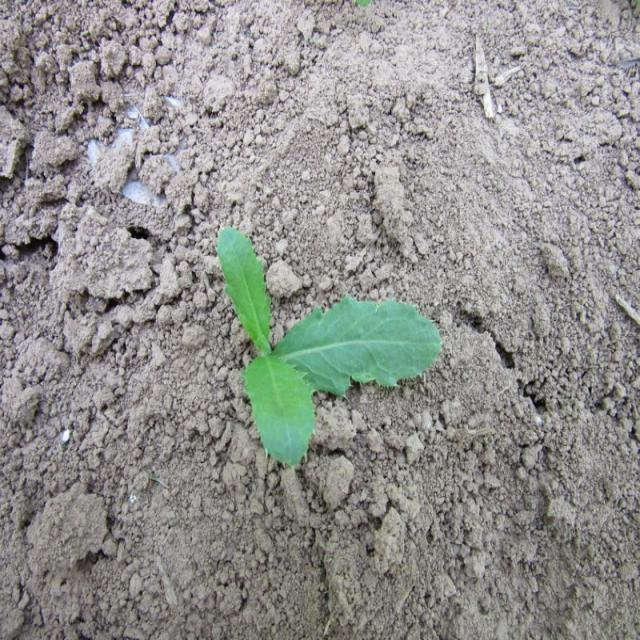field_thistle: (209, 213, 431, 474)
